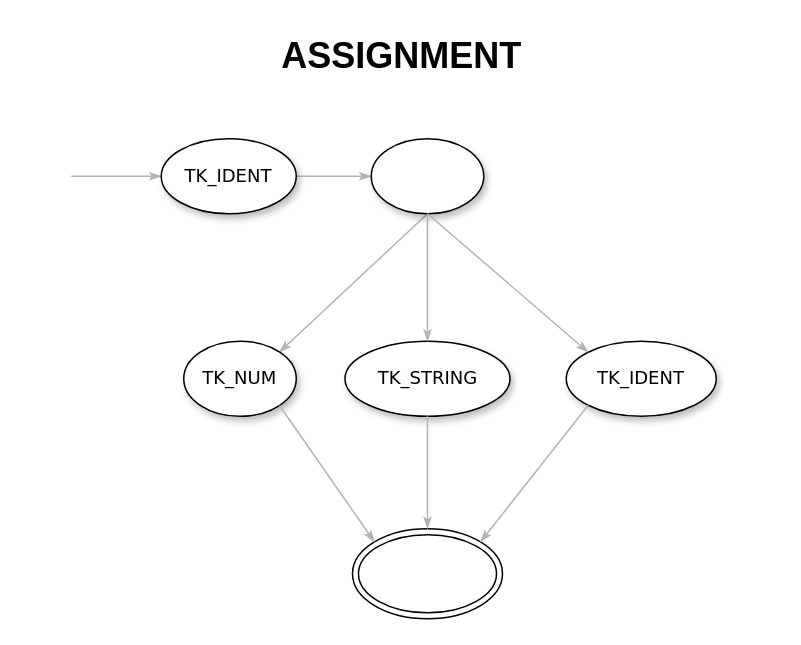
The diagram is 801 pixels wide and 645 high, and some of its shapes have lost their labels. The shapes that lost their labels are listed below. From the top down, each one's centre as x and y in pixels, then its label:
(428,177): EQUAL
(426,573): SEMICOLON
